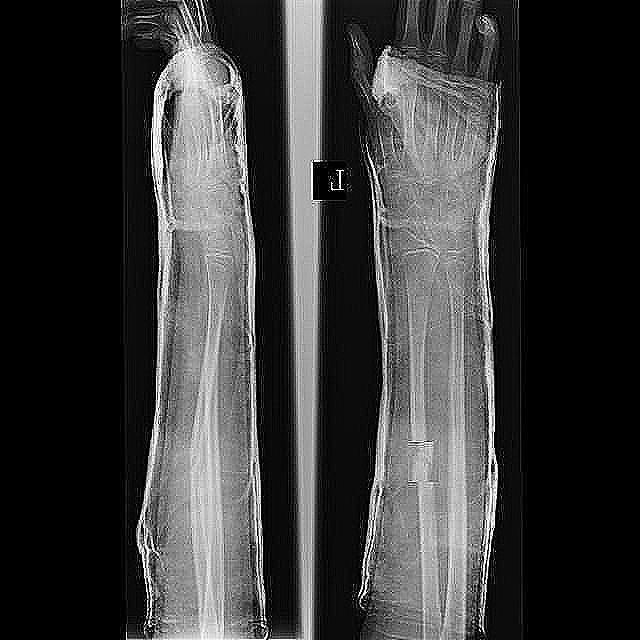bone: (407, 442, 438, 482), (184, 440, 206, 484)
